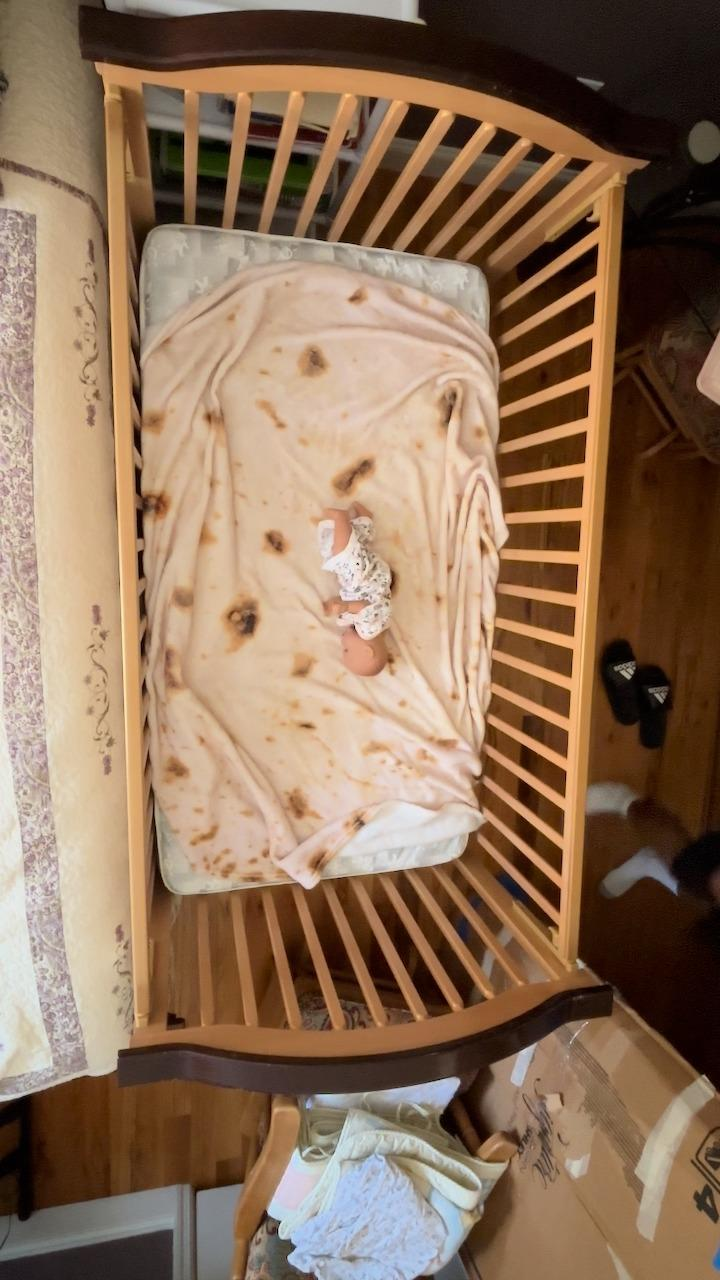baby: (298, 496, 404, 682)
